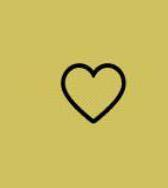ImgButton: (1, 1, 167, 187)
